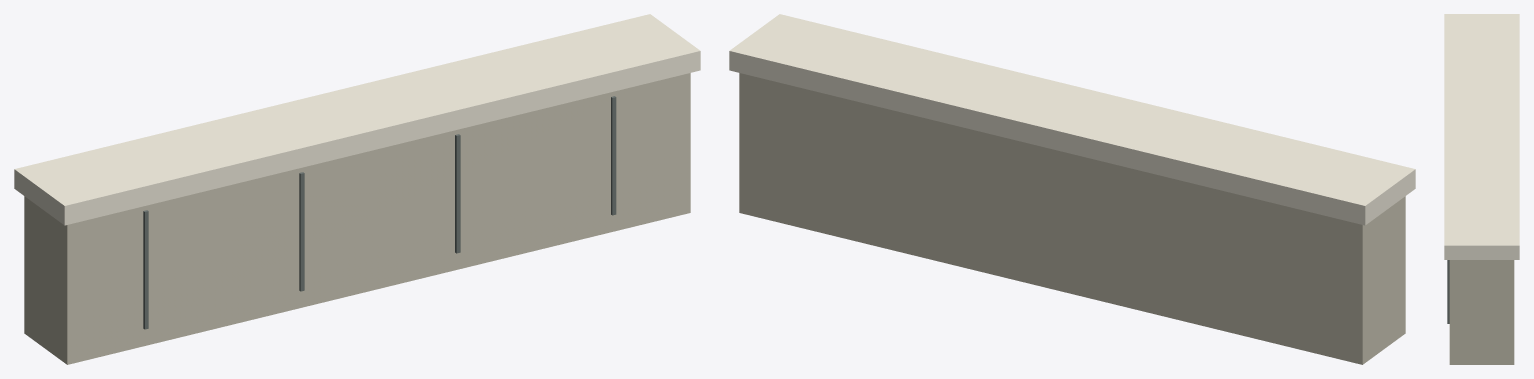
The picture shows the model from 3 angles, left to right: view 1: azimuth 30°, elevation 25°; view 2: azimuth 150°, elevation 25°; view 3: azimuth 270°, elevation 25°; orthographic projection. The views are drawn at different scales.
Size of the model in its own units: 4.08 by 1 by 0.56.
